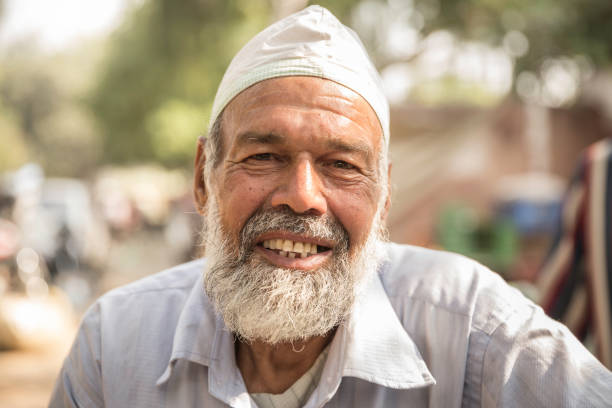face: (222, 111, 375, 314)
